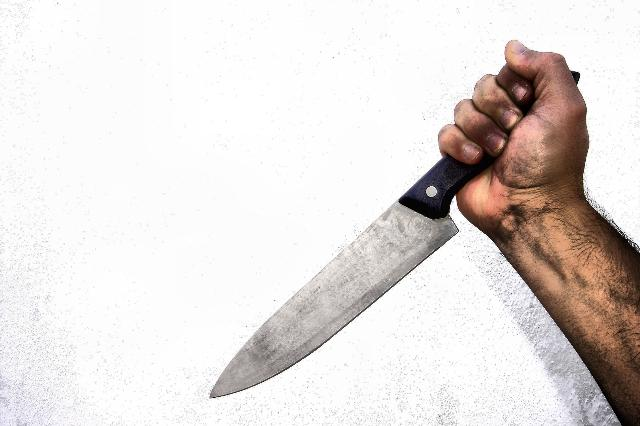knife: (202, 109, 528, 411)
